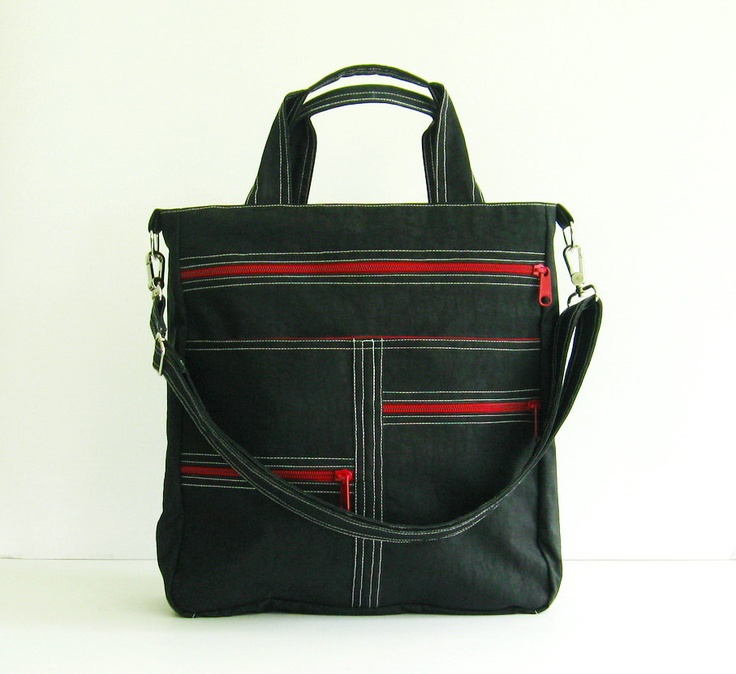nylon: (148, 202, 602, 619)
